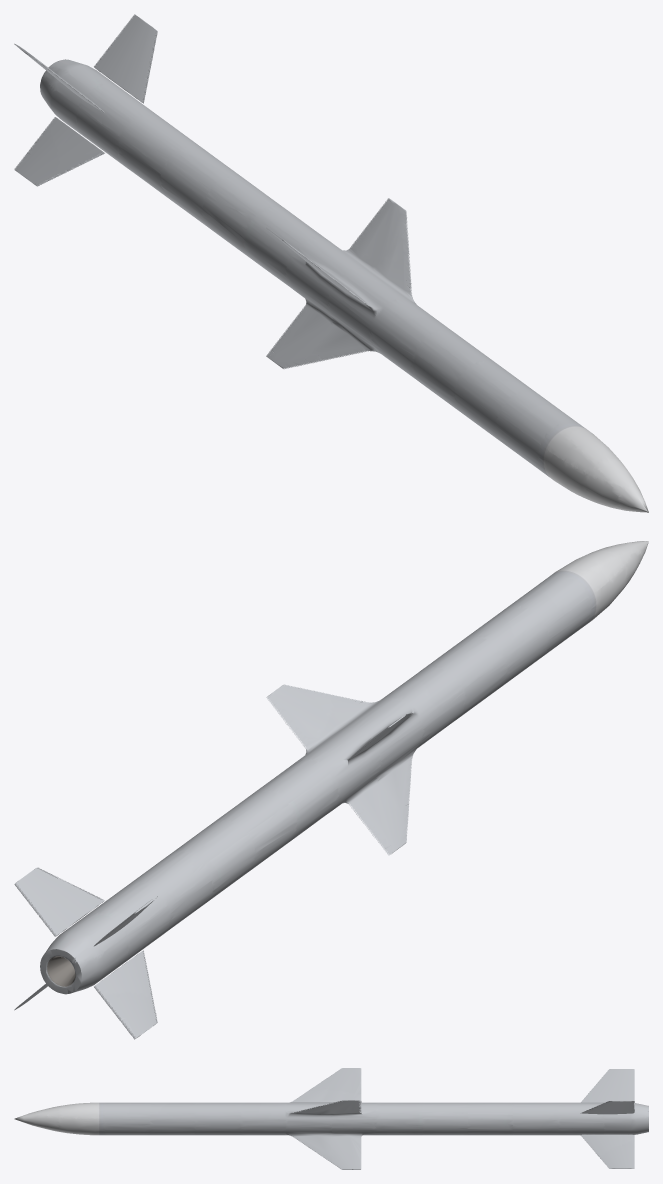
The picture shows the model from 3 angles, top to bottom: view 1: azimuth 30°, elevation 25°; view 2: azimuth 150°, elevation 25°; view 3: azimuth 270°, elevation 25°; orthographic projection. The views are drawn at different scales.
Parts seen in each view (by area): view 1: airframe, fsim:fin:3419906077:1|elevator+aileron:1+rudder:1@-20,20, fsim:fin:3899119507:1|elevator+aileron:-1+rudder:1@-20,20; view 2: airframe, fsim:fin:3419906077:1|elevator+aileron:1+rudder:1@-20,20, fsim:fin:3899119507:1|elevator+aileron:-1+rudder:1@-20,20; view 3: airframe, fsim:fin:1916934482:1|elevator+aileron:1+rudder:-1@-20,20, fsim:fin:453677541:1|elevator+aileron:-1+rudder:-1@-20,20, fsim:fin:3419906077:1|elevator+aileron:1+rudder:1@-20,20.
Part boxes in pixels (box(x1,y1,x2,y2)): airframe: box(40, 59, 648, 512); fsim:fin:3419906077:1|elevator+aileron:1+rudder:1@-20,20: box(94, 14, 157, 103); fsim:fin:3899119507:1|elevator+aileron:-1+rudder:1@-20,20: box(14, 117, 104, 186); airframe: box(40, 541, 648, 994); fsim:fin:3419906077:1|elevator+aileron:1+rudder:1@-20,20: box(14, 867, 104, 936); fsim:fin:3899119507:1|elevator+aileron:-1+rudder:1@-20,20: box(94, 950, 157, 1039); airframe: box(14, 1068, 648, 1169); fsim:fin:1916934482:1|elevator+aileron:1+rudder:-1@-20,20: box(580, 1134, 634, 1168); fsim:fin:453677541:1|elevator+aileron:-1+rudder:-1@-20,20: box(581, 1069, 634, 1102); fsim:fin:3419906077:1|elevator+aileron:1+rudder:1@-20,20: box(580, 1100, 634, 1114).
Size of the model in its own units: 0.4767 by 0.4763 by 3.93.
Materials: 3 (1 with a texture image).
